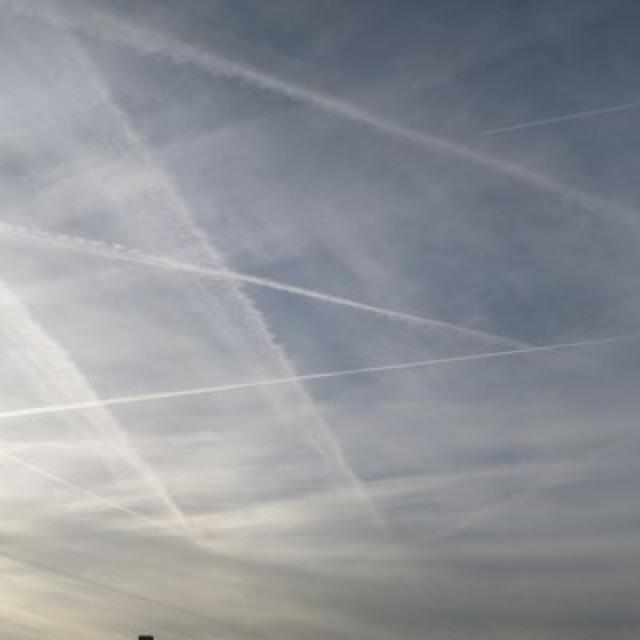Ct: (1, 34, 640, 547)
